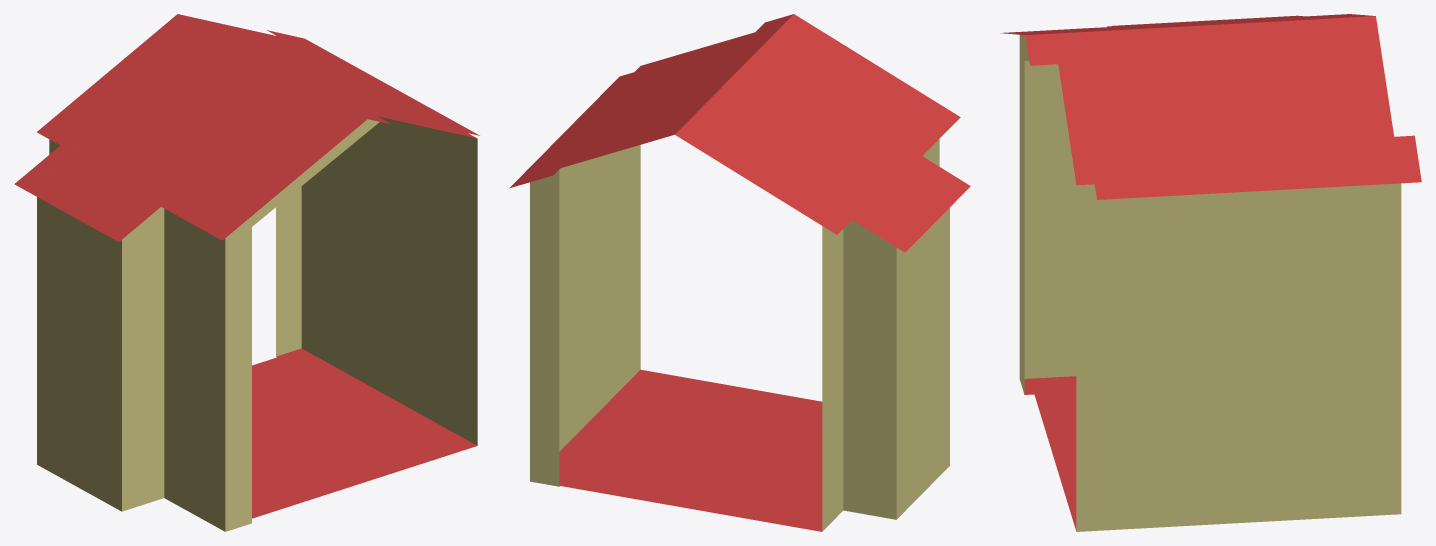
The picture shows the model from 3 angles, left to right: view 1: azimuth 30°, elevation 25°; view 2: azimuth 150°, elevation 25°; view 3: azimuth 270°, elevation 25°; orthographic projection. The views are drawn at different scales.
Bounding box in the file's own units: 13.41 × 11.52 × 12.74.
